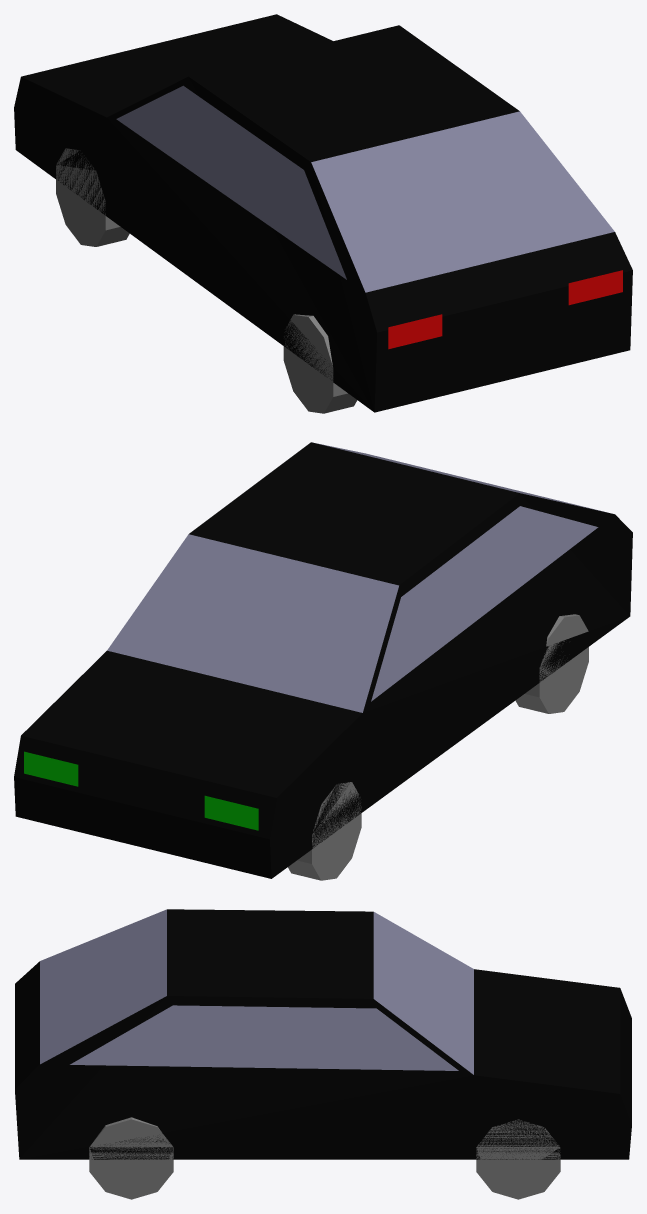
Rendered from veh_car.glb.
The picture shows the model from 3 angles, top to bottom: view 1: azimuth 30°, elevation 25°; view 2: azimuth 150°, elevation 25°; view 3: azimuth 270°, elevation 25°; orthographic projection. The views are drawn at different scales.
Visible parts, largest first — view 1: veh_car; view 2: veh_car; view 3: veh_car.
Boxes of the visible parts, left/top/right/bottom form: veh_car: left=14, top=14, right=632, bottom=413; veh_car: left=14, top=442, right=632, bottom=880; veh_car: left=15, top=909, right=631, bottom=1199.
Size of the model in its own units: 1.7 by 1.45 by 4.19.
